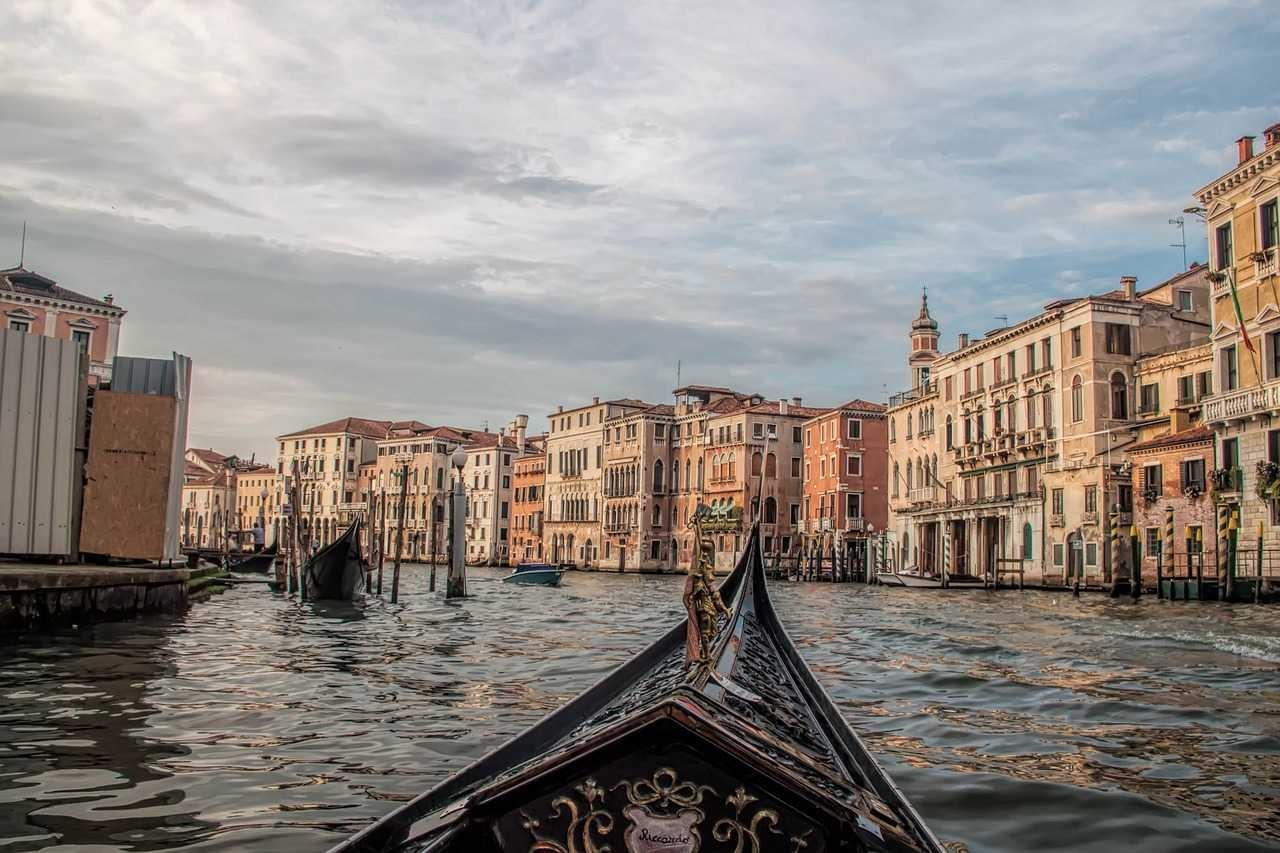kayak: (333, 519, 955, 844), (302, 515, 366, 602), (878, 569, 994, 590), (503, 563, 564, 585)
